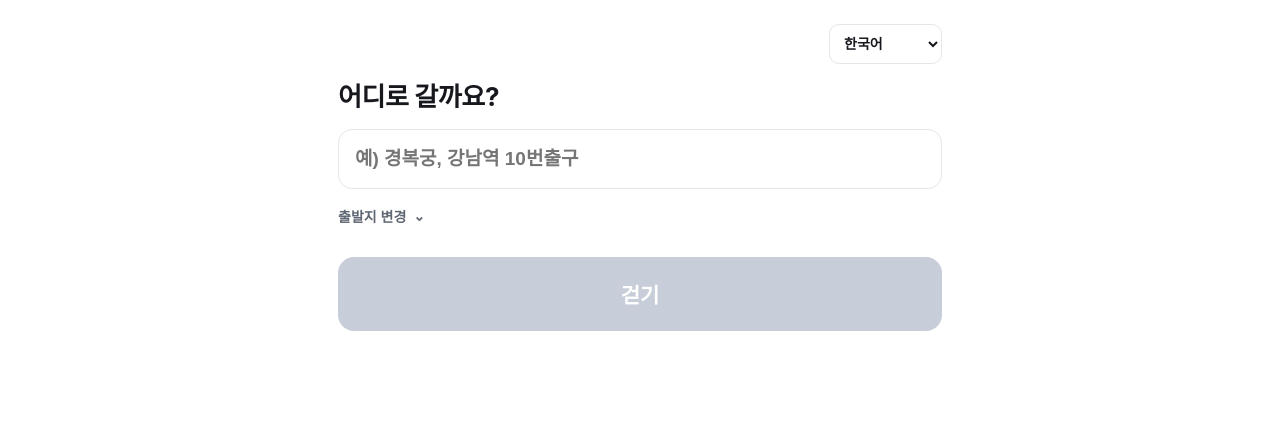
Test: TEST E — 확정 이탈은 active route 를 실제로 재탐색한다 › 회전 미이행 accuracy 25m의 보정 상태에 맞춰 화면/재탐색을 처리한다
The width and height of the screenshot is (1280, 424).
Type "경복궁" into the search field named "목적지". click: (640, 159)
box: [338, 129, 942, 189]
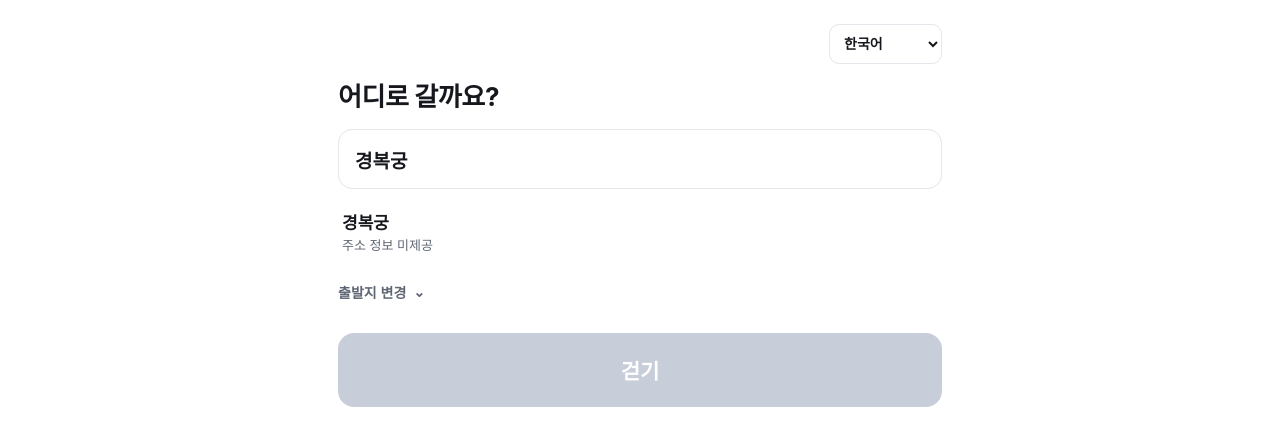
Click the button "경복궁 주소 정보 미제공". click: click(365, 224)
box: [338, 199, 942, 264]
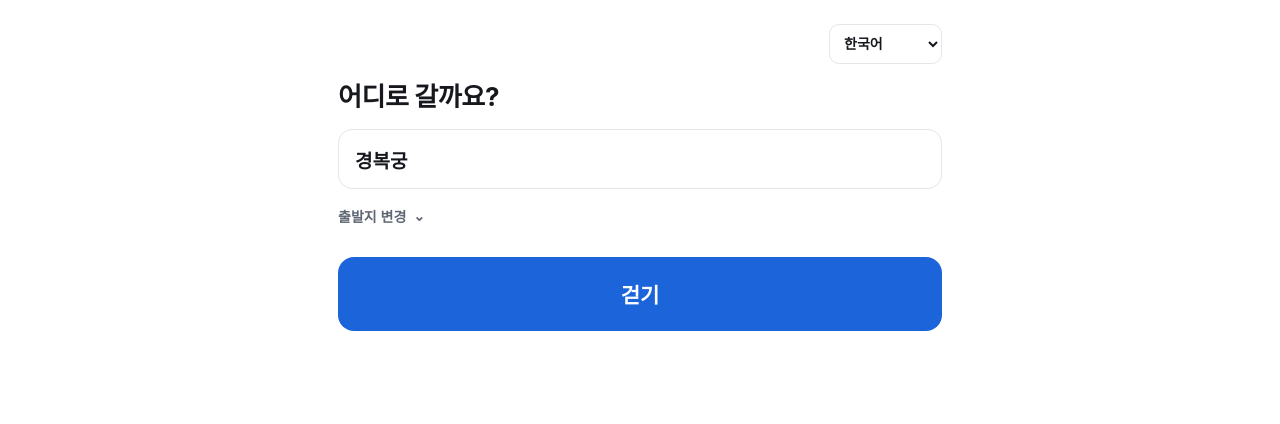
Click the button "걷기". click: click(640, 294)
box: [338, 257, 942, 331]
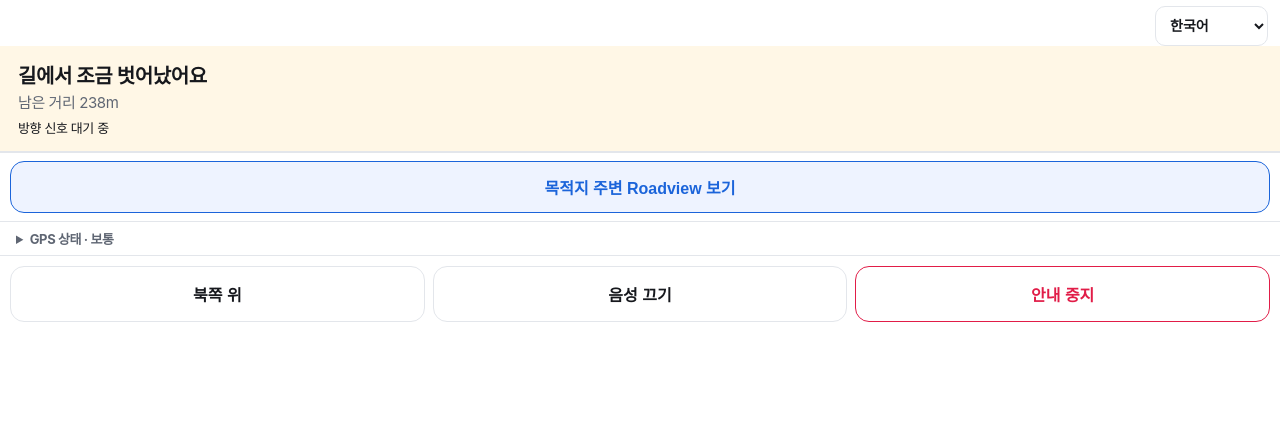
Check: the text "경로를 다시 찾는 중…" is shown, box [18, 64, 207, 88]
Check: the button "안내 중지" is shown, box [855, 266, 1270, 322]
